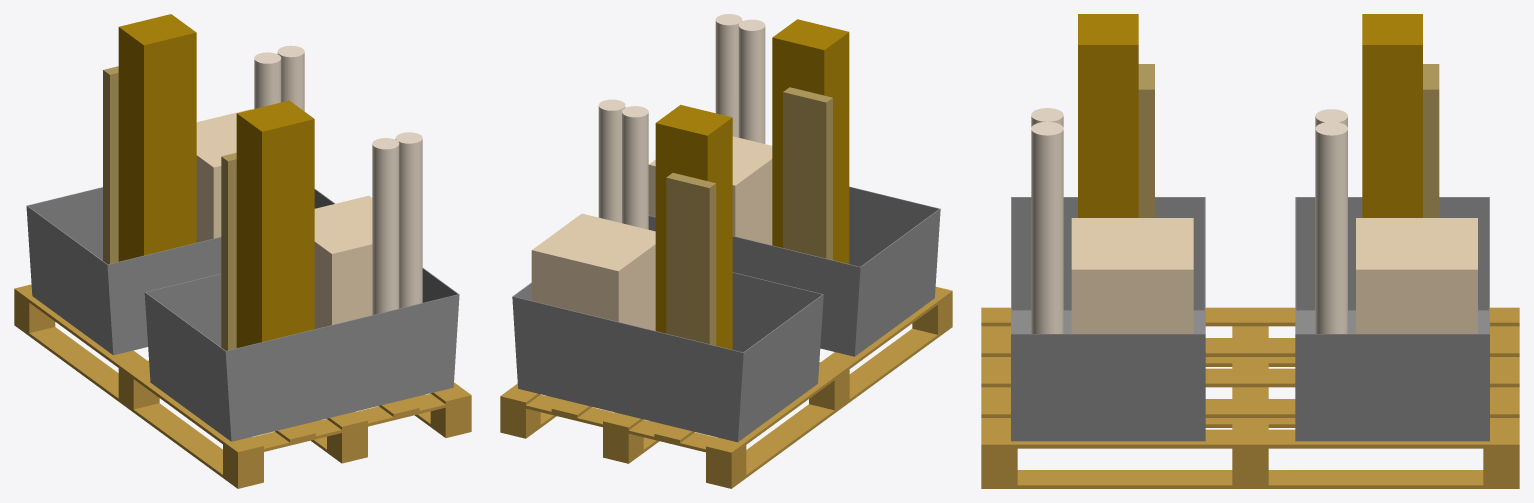
The model's file is avant ceinture.glb.
3 renders of one model, left to right at view 1: azimuth 30°, elevation 25°; view 2: azimuth 150°, elevation 25°; view 3: azimuth 270°, elevation 25°, orthographic. The views are drawn at different scales.
Parts seen in each view (by area): view 1: Part 1 (×16), Part 8 (×2), Part 2, Part 7 (×2), Part 9 (×2); view 2: Part 1 (×16), Part 8 (×2), Part 2, Part 7 (×2), Part 9 (×2); view 3: Part 1 (×14), Part 7 (×2), Part 2.
Boxes of the visible parts, left/top/right/bottom form: Part 1 (×16): left=103, top=14, right=422, bottom=350; Part 8 (×2): left=27, top=187, right=458, bottom=440; Part 2: left=14, top=284, right=471, bottom=488; Part 7 (×2): left=26, top=189, right=459, bottom=441; Part 9 (×2): left=108, top=237, right=221, bottom=354; Part 1 (×16): left=531, top=14, right=849, bottom=349; Part 8 (×2): left=513, top=186, right=939, bottom=441; Part 2: left=500, top=286, right=952, bottom=488; Part 7 (×2): left=512, top=208, right=940, bottom=442; Part 9 (×2): left=648, top=215, right=859, bottom=355; Part 1 (×14): left=1031, top=14, right=1477, bottom=333; Part 7 (×2): left=1011, top=197, right=1489, bottom=441; Part 2: left=981, top=307, right=1519, bottom=488.
Bounding box in the file's own units: 0.8 × 1.02 × 1.33.
